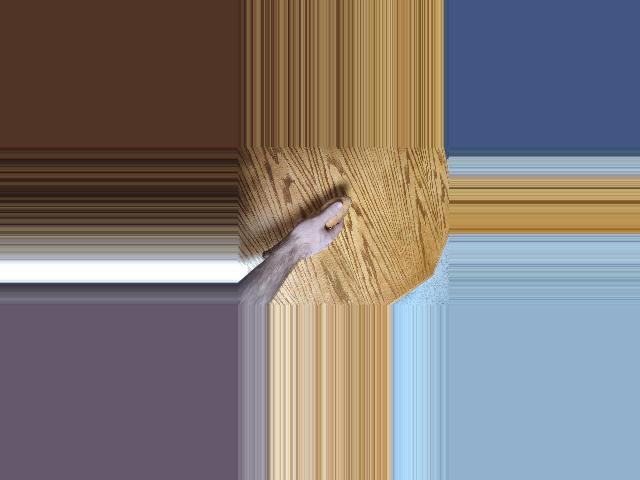sweet_potato: (257, 195, 352, 266)
